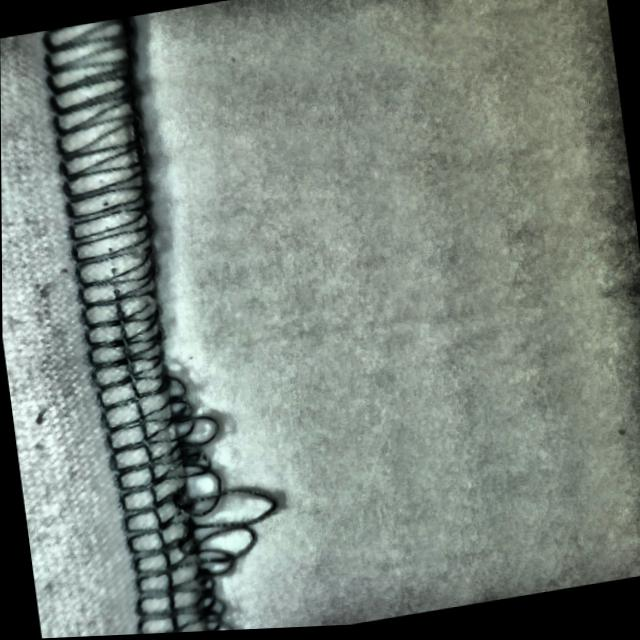Stitch: (83, 361, 297, 637)
